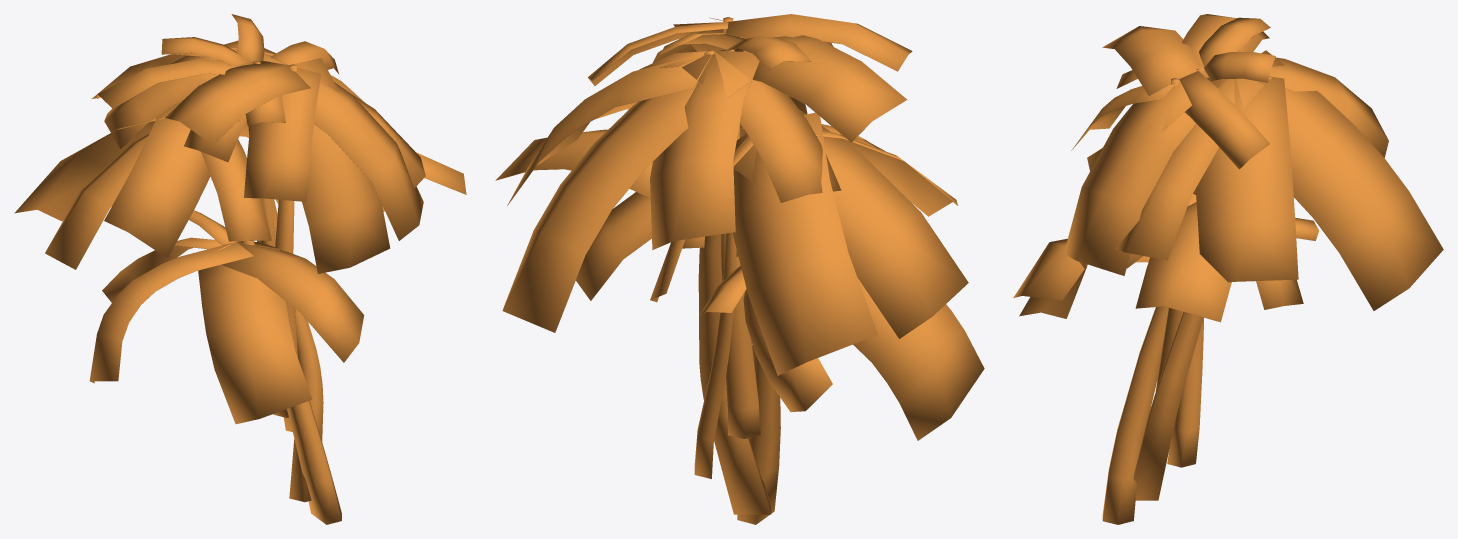
3 views of the same model, side by side, from view 1: azimuth 30°, elevation 25°; view 2: azimuth 150°, elevation 25°; view 3: azimuth 270°, elevation 25° (orthographic). The views are drawn at different scales.
Visible parts, largest first — view 1: eb_house_plant_03; view 2: eb_house_plant_03; view 3: eb_house_plant_03.
Part boxes in pixels (x1=…): eb_house_plant_03: x1=14, y1=14, x2=466, y2=524; eb_house_plant_03: x1=495, y1=14, x2=984, y2=524; eb_house_plant_03: x1=1013, y1=14, x2=1443, y2=524.
Bounding box in the file's own units: 0.7481 × 0.7326 × 0.8559.
